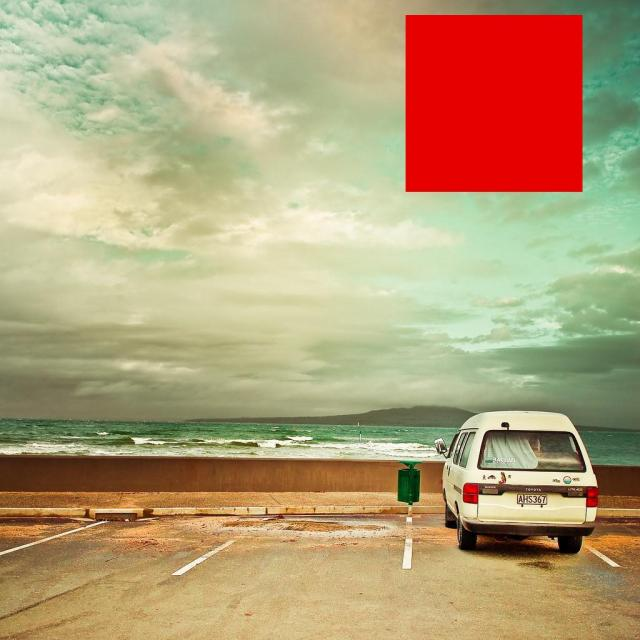RedSquare: (396, 7, 594, 199)
